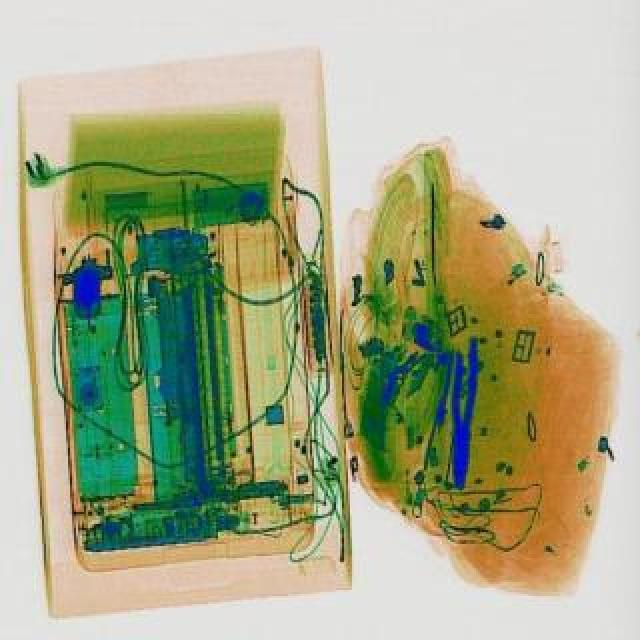wrench: (450, 336, 478, 488)
